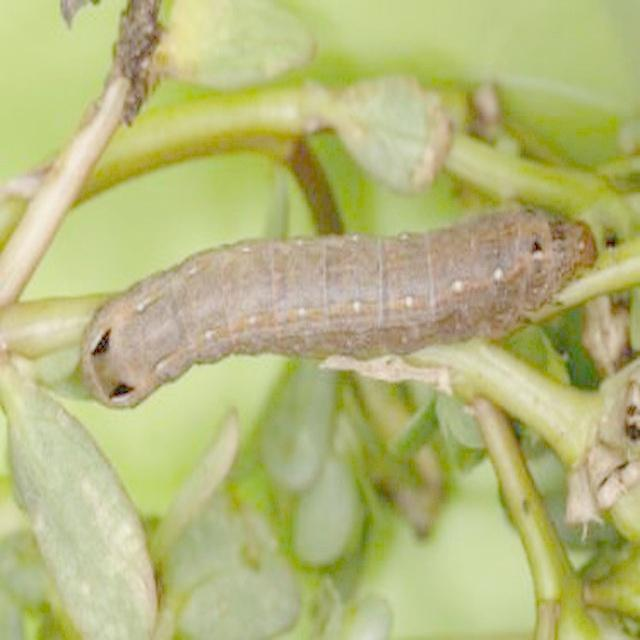gusano_cogollero: (76, 207, 598, 409)
